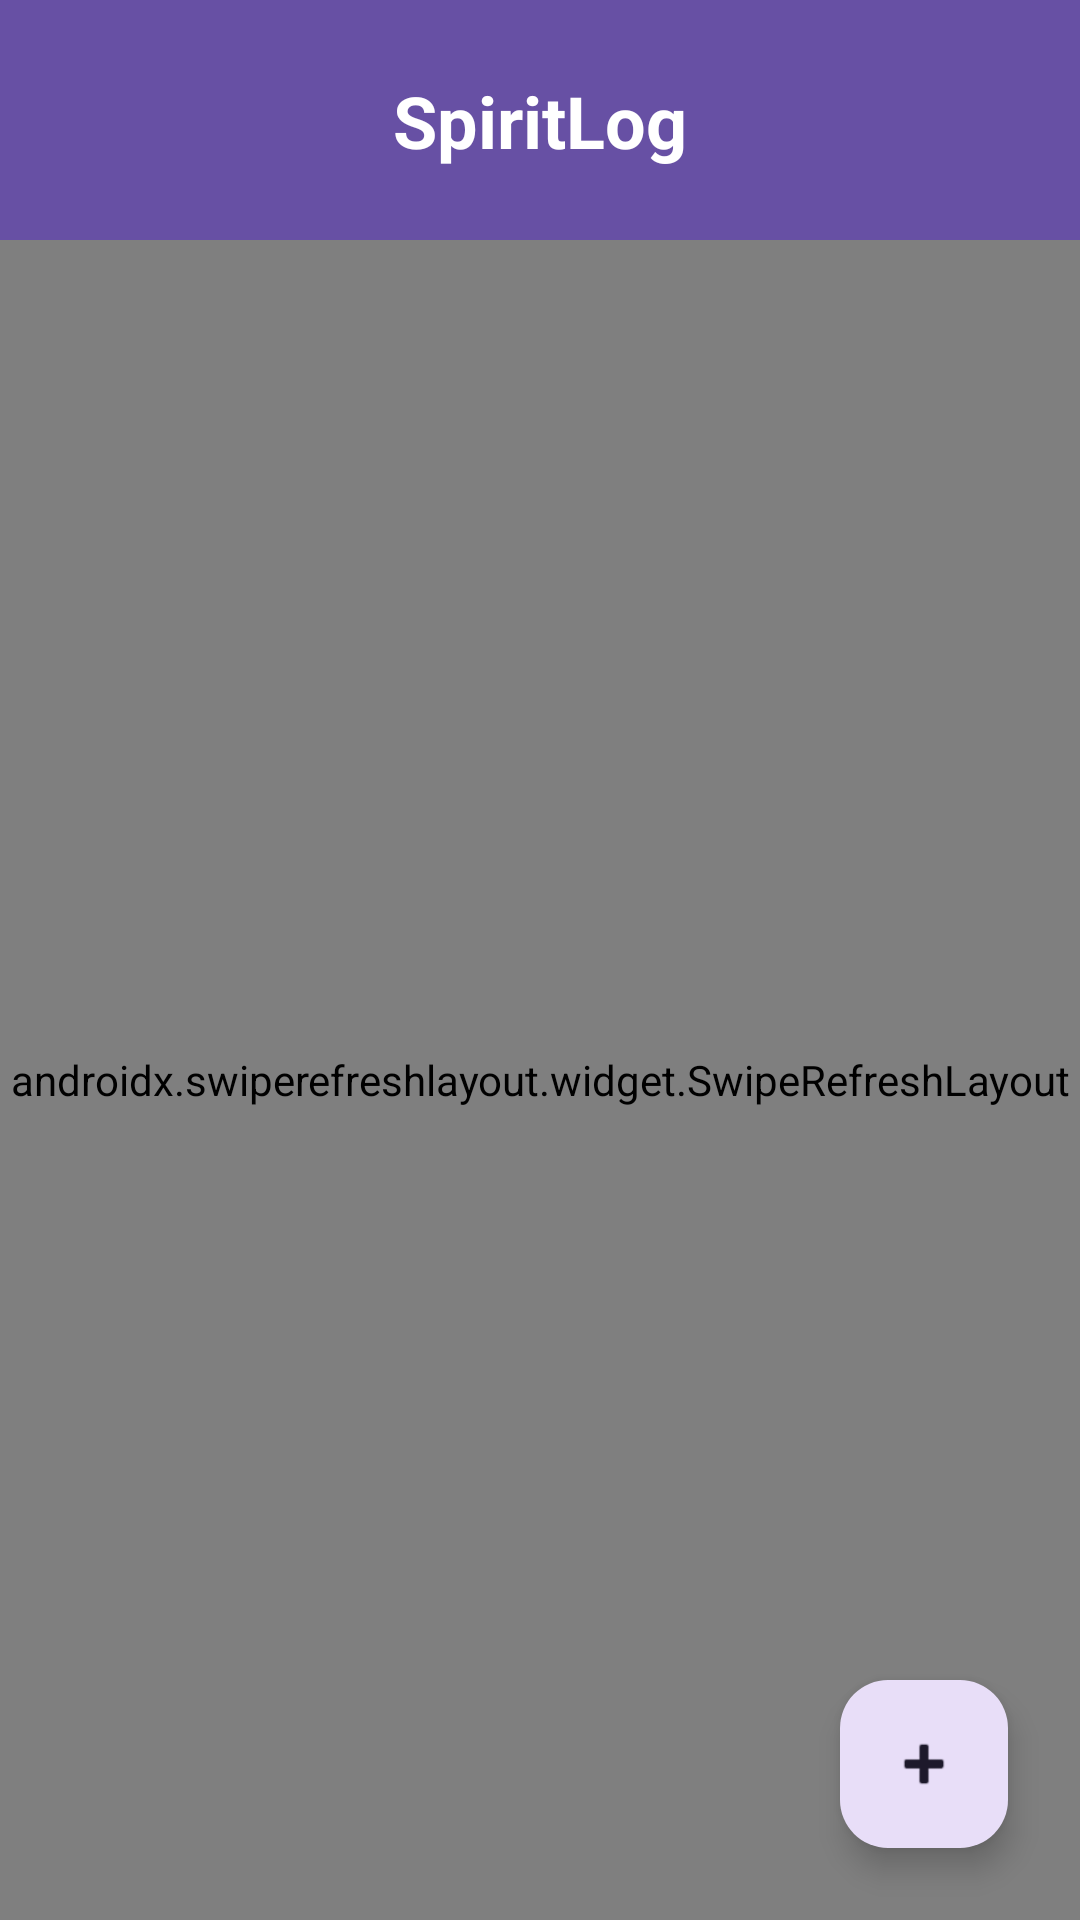

Screen size 1080w x 1920h. Icon name, then its box in pixels as [left=x1, top=y1, right=x2, bottom=y2]:
Add New investigation: [left=840, top=1680, right=1008, bottom=1848]
